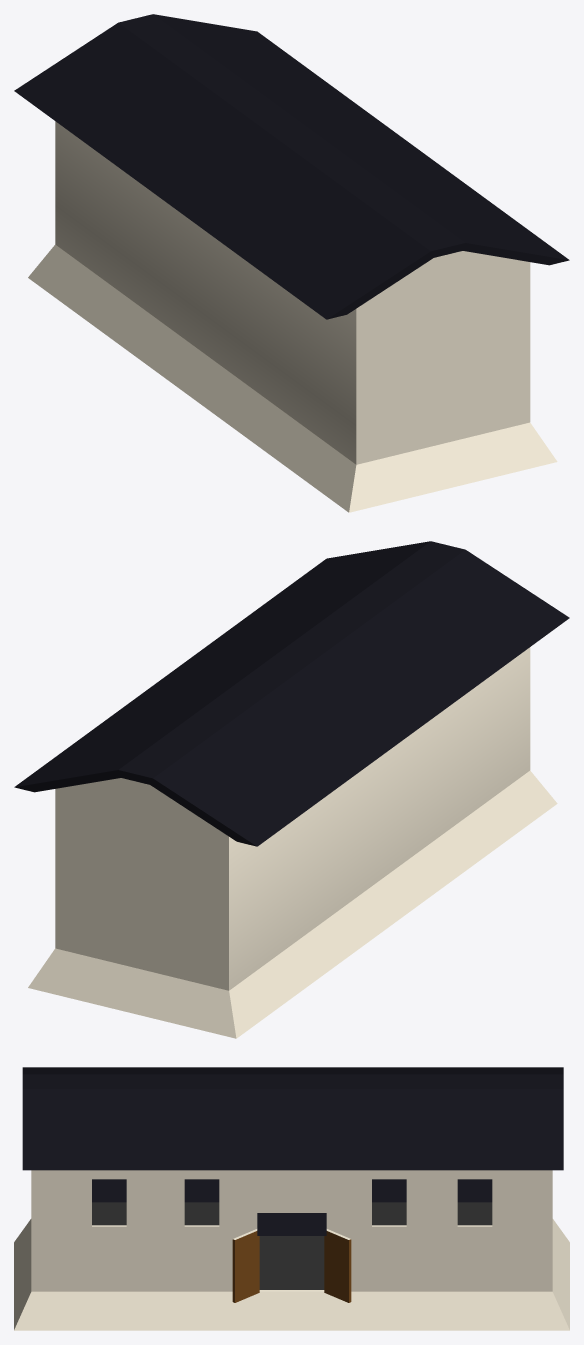
File: jadehouse15m.fbx
The picture shows the model from 3 angles, top to bottom: view 1: azimuth 30°, elevation 25°; view 2: azimuth 150°, elevation 25°; view 3: azimuth 270°, elevation 25°; orthographic projection. The views are drawn at different scales.
Parts seen in each view (by area): view 1: pCube46; view 2: pCube46; view 3: pCube46.
Part boxes in pixels (box(x1,y1,x2,y2)): pCube46: box(14, 14, 569, 512); pCube46: box(14, 541, 569, 1038); pCube46: box(14, 1067, 569, 1330).
Size of the model in its own units: 7 by 6.5 by 16.
